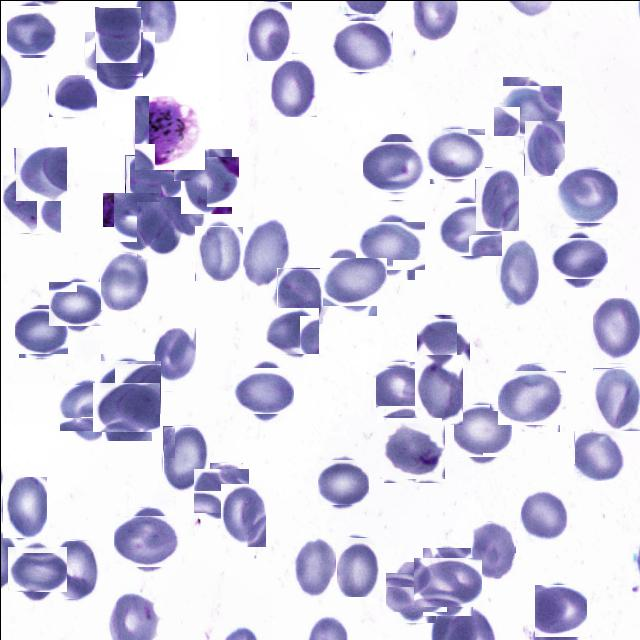difficult: (381, 418, 443, 481)
gametocyte: (133, 96, 205, 169)
red blood cell: (500, 366, 562, 428), (98, 356, 158, 416), (439, 199, 498, 259), (117, 511, 177, 570), (61, 378, 121, 437), (360, 215, 419, 274), (556, 165, 615, 224), (498, 81, 556, 140), (418, 552, 477, 610), (90, 25, 148, 84), (1, 175, 61, 232), (331, 16, 388, 76), (366, 137, 424, 195), (323, 252, 381, 310), (97, 378, 155, 436), (414, 354, 462, 424), (177, 152, 234, 210), (162, 425, 209, 493), (105, 188, 162, 244), (495, 234, 538, 308), (592, 296, 640, 362), (454, 402, 510, 458), (267, 53, 316, 116), (592, 367, 640, 430), (372, 364, 428, 418), (427, 126, 482, 180), (237, 363, 290, 418), (149, 327, 195, 390), (99, 252, 148, 310), (220, 483, 265, 546), (474, 166, 518, 230), (14, 146, 66, 200), (10, 542, 63, 594), (520, 488, 571, 542), (54, 539, 100, 598), (534, 584, 586, 636), (246, 0, 291, 60), (136, 201, 184, 257), (2, 476, 46, 537), (469, 520, 515, 578), (552, 232, 604, 283), (246, 222, 290, 282), (194, 225, 242, 280), (160, 180, 207, 235), (335, 536, 378, 596), (124, 154, 184, 197), (276, 267, 322, 323), (94, 6, 140, 62), (574, 430, 625, 480), (50, 278, 101, 328), (266, 305, 316, 355), (195, 465, 245, 515), (418, 316, 468, 366), (390, 566, 440, 616), (16, 306, 66, 355), (7, 6, 56, 56), (294, 534, 333, 596), (318, 458, 368, 506), (523, 119, 564, 175), (48, 74, 96, 116)
